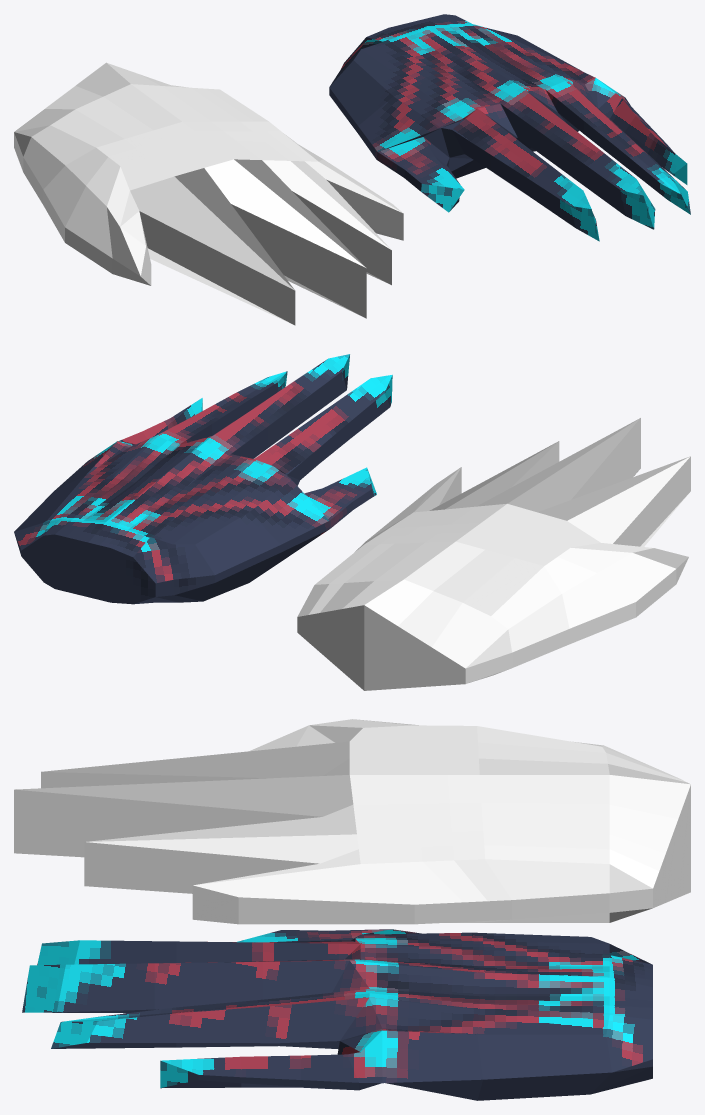
The model's file is hand.gltf.
3 renders of one model, top to bottom at view 1: azimuth 30°, elevation 25°; view 2: azimuth 150°, elevation 25°; view 3: azimuth 270°, elevation 25°, orthographic. The views are drawn at different scales.
Parts seen in each view (by area): view 1: beveled_cuboid (×2); view 2: beveled_cuboid (×2); view 3: beveled_cuboid (×2).
Boxes of the visible parts, <box> form: beveled_cuboid (×2): <box>14,14,690,325</box>; beveled_cuboid (×2): <box>14,354,690,690</box>; beveled_cuboid (×2): <box>14,719,690,1100</box>.
Bounding box in the file's own units: 2.33 × 0.3814 × 1.95.
2 materials, 1 textured.
